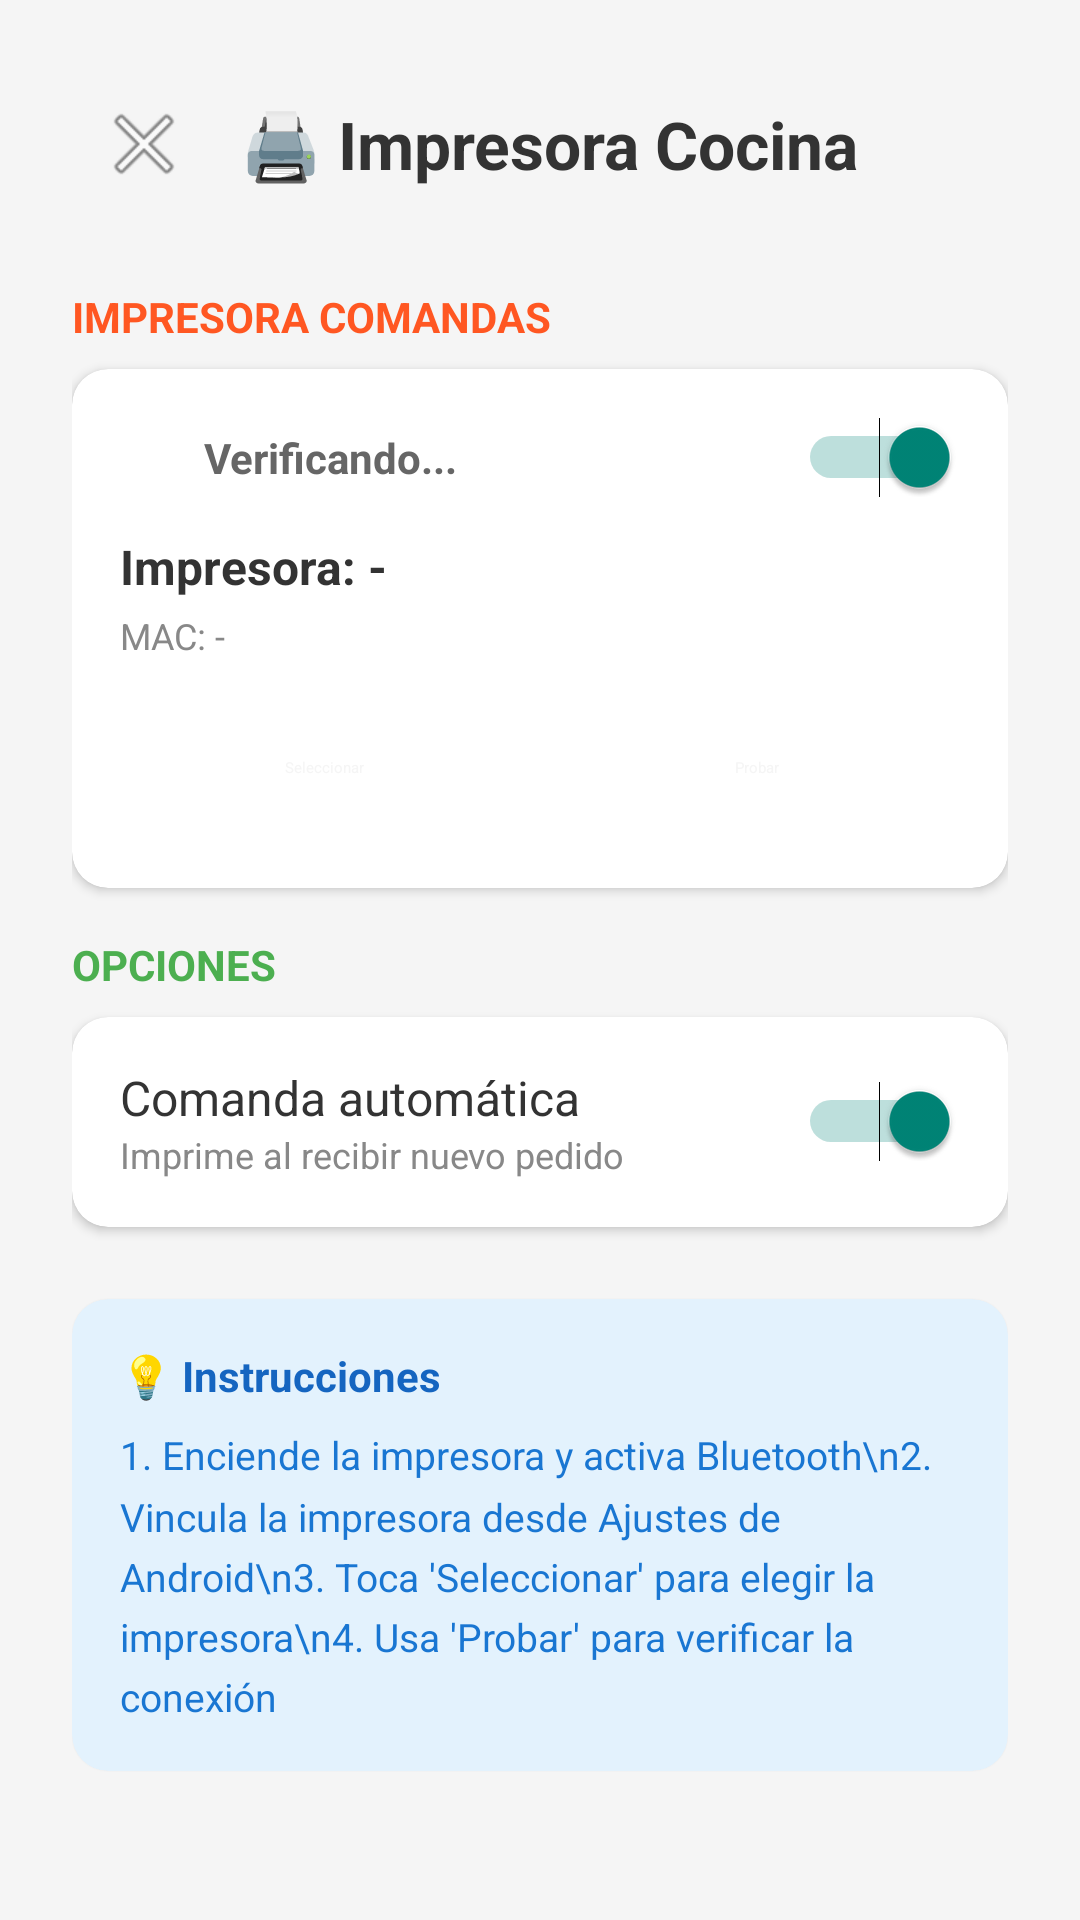

Named icons in this screenshot (1080 x 1920) and their bounding boxes, (x1, y1, x2, y2):
Volver: (114, 114, 174, 174)
